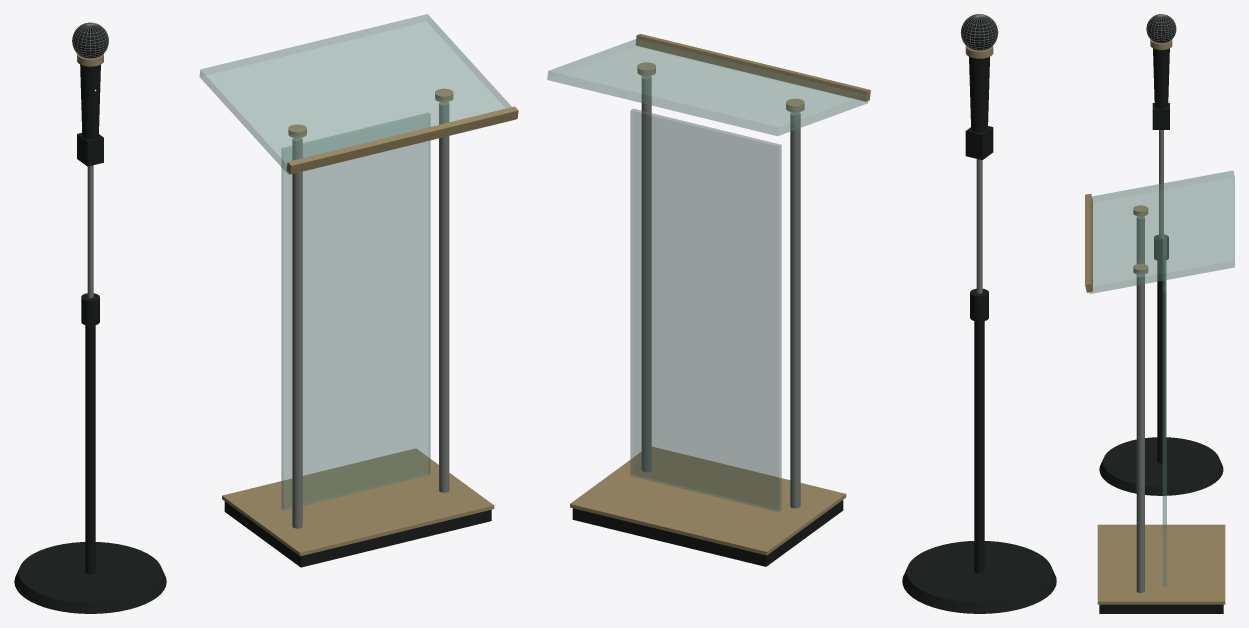
The model's file is mc-hosting-scene-v1.glb.
3 renders of one model, left to right at view 1: azimuth 30°, elevation 25°; view 2: azimuth 150°, elevation 25°; view 3: azimuth 270°, elevation 25°, orthographic. The views are drawn at different scales.
Visible parts, largest first — view 1: Smoked glass lectern front, Angled lectern reading surface, Lectern base trim, Microphone stand weighted base, Lectern brushed metal support (×2), Reading surface lower lip, Lectern weighted base, Microphone stand lower pole, Wireless microphone body, Microphone mesh grille, Microphone stand telescopic pole, Microphone clip; view 2: Smoked glass lectern front, Lectern base trim, Angled lectern reading surface, Microphone stand weighted base, Lectern brushed metal support (×2), Lectern weighted base, Reading surface lower lip, Microphone stand lower pole, Wireless microphone body, Microphone mesh grille, Microphone stand telescopic pole, Microphone clip; view 3: Angled lectern reading surface, Lectern base trim, Microphone stand weighted base, Lectern brushed metal support (×2), Microphone stand lower pole, Smoked glass lectern front, Lectern weighted base, Wireless microphone body, Reading surface lower lip, Microphone mesh grille, Microphone stand telescopic pole, Microphone clip (+1 smaller).
Part boxes in pixels (box(x1,y1,x2,y2)): Smoked glass lectern front: box(281, 113, 430, 510); Angled lectern reading surface: box(199, 14, 511, 174); Lectern base trim: box(222, 448, 494, 556); Microphone stand weighted base: box(14, 542, 166, 613); Lectern brushed metal support (×2): box(292, 102, 449, 528); Reading surface lower lip: box(286, 106, 518, 174); Lectern weighted base: box(224, 501, 491, 567); Microphone stand lower pole: box(85, 325, 95, 574); Wireless microphone body: box(80, 64, 100, 139); Microphone mesh grille: box(72, 22, 108, 58); Microphone stand telescopic pole: box(87, 165, 93, 298); Microphone clip: box(77, 133, 103, 166); Smoked glass lectern front: box(630, 108, 781, 512); Lectern base trim: box(570, 446, 846, 555); Angled lectern reading surface: box(547, 39, 868, 135); Microphone stand weighted base: box(902, 541, 1056, 613); Lectern brushed metal support (×2): box(641, 76, 800, 508); Lectern weighted base: box(572, 500, 843, 566); Reading surface lower lip: box(635, 34, 870, 101); Microphone stand lower pole: box(974, 321, 984, 573); Wireless microphone body: box(969, 57, 989, 132); Microphone mesh grille: box(961, 14, 997, 50); Microphone stand telescopic pole: box(976, 159, 982, 293); Microphone clip: box(965, 126, 993, 160); Angled lectern reading surface: box(1089, 170, 1234, 293); Lectern base trim: box(1097, 524, 1225, 604); Microphone stand weighted base: box(1099, 437, 1223, 495); Lectern brushed metal support (×2): box(1136, 216, 1144, 592); Microphone stand lower pole: box(1157, 261, 1165, 463); Smoked glass lectern front: box(1162, 234, 1166, 586); Lectern weighted base: box(1099, 604, 1223, 613); Wireless microphone body: box(1153, 48, 1169, 109); Reading surface lower lip: box(1085, 193, 1092, 292); Microphone mesh grille: box(1146, 14, 1176, 43); Microphone stand telescopic pole: box(1159, 130, 1163, 238); Microphone clip: box(1152, 103, 1169, 129).
Size of the model in its own units: 1.22 by 1.45 by 0.4342.
